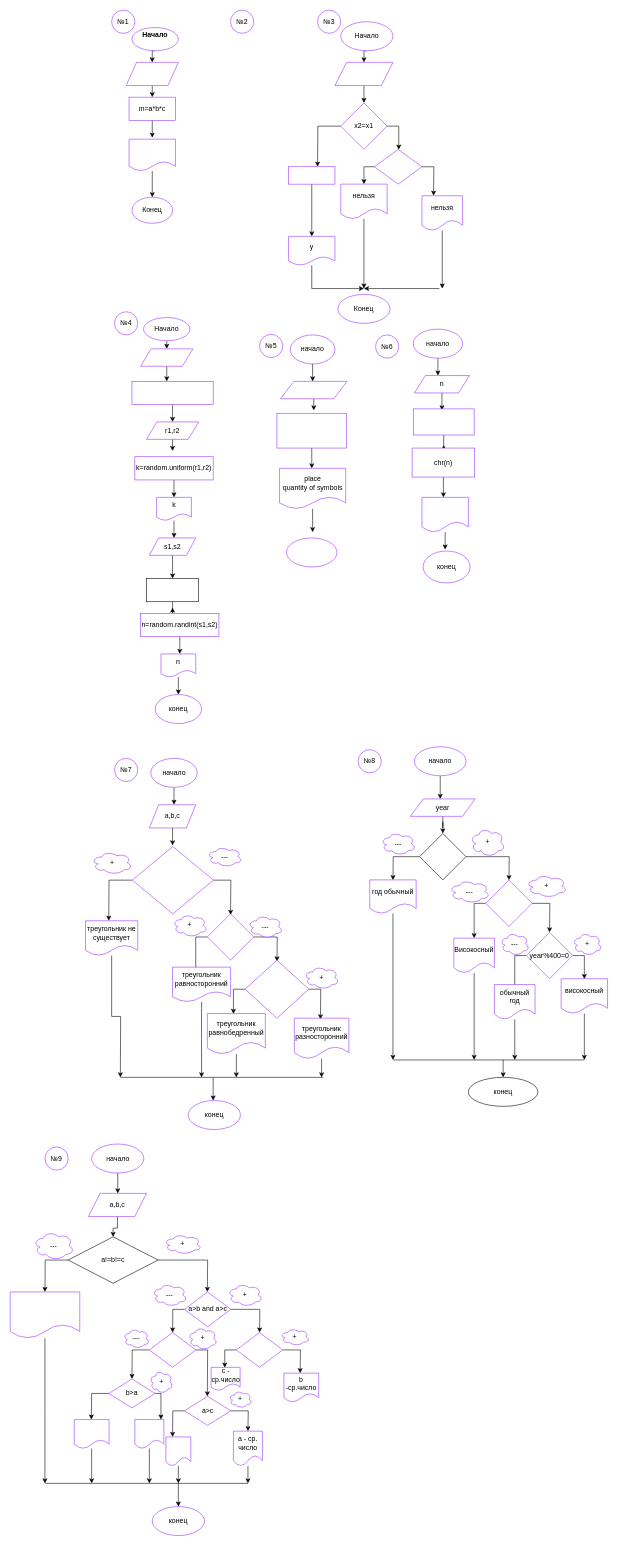
Some shapes in this 618 by 1546 pixel diagram are drawn without their labels. Each missing label, with the box of its shape:
(a + b <= c) or (a + c <= b) or (b + c <= a): (132, 846, 213, 914)
a!= b and a != c and b != c: (244, 960, 309, 1018)
a, b: (280, 381, 347, 399)
a, b, c: (126, 62, 178, 86)
a- ср.число: (134, 1419, 164, 1449)
a=a-org('a')+1 b=b-org('a')+1: (276, 413, 347, 448)
a=b=c: (207, 913, 254, 960)
b-ср.число: (74, 1419, 109, 1449)
b>a and b>c: (149, 1332, 196, 1367)
b>c: (236, 1332, 283, 1367)
end: (286, 537, 337, 567)
n=ord('a')+n-1: (413, 408, 474, 435)
n=random.randint(z1,z2): (131, 381, 213, 405)
s, m: (128, 139, 175, 171)
s1=ord s2=ord: (146, 578, 199, 602)
x1, y1, x2, y2: (334, 62, 393, 86)
y1=y2: (374, 149, 422, 184)
y=k*x+b: (288, 166, 335, 184)
year%100=0: (485, 880, 532, 927)
year%4=0: (419, 833, 466, 880)
z1,z2: (140, 348, 193, 366)
буква: (421, 497, 468, 532)
с - ср. число: (165, 1436, 191, 1466)
числа должны быть разные: (10, 1291, 80, 1338)
